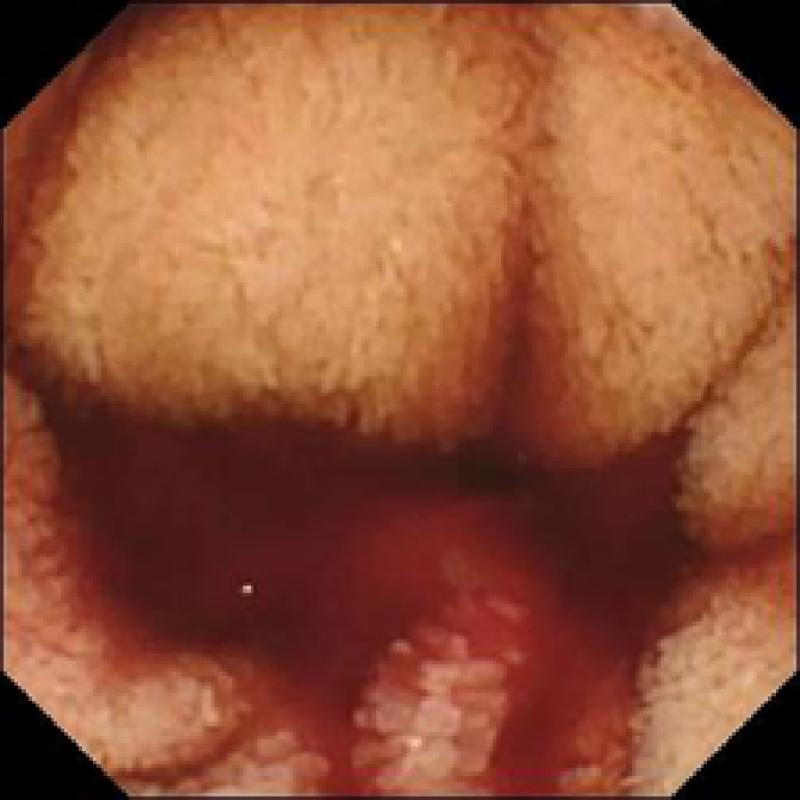bleeding: (111, 496, 696, 786)
